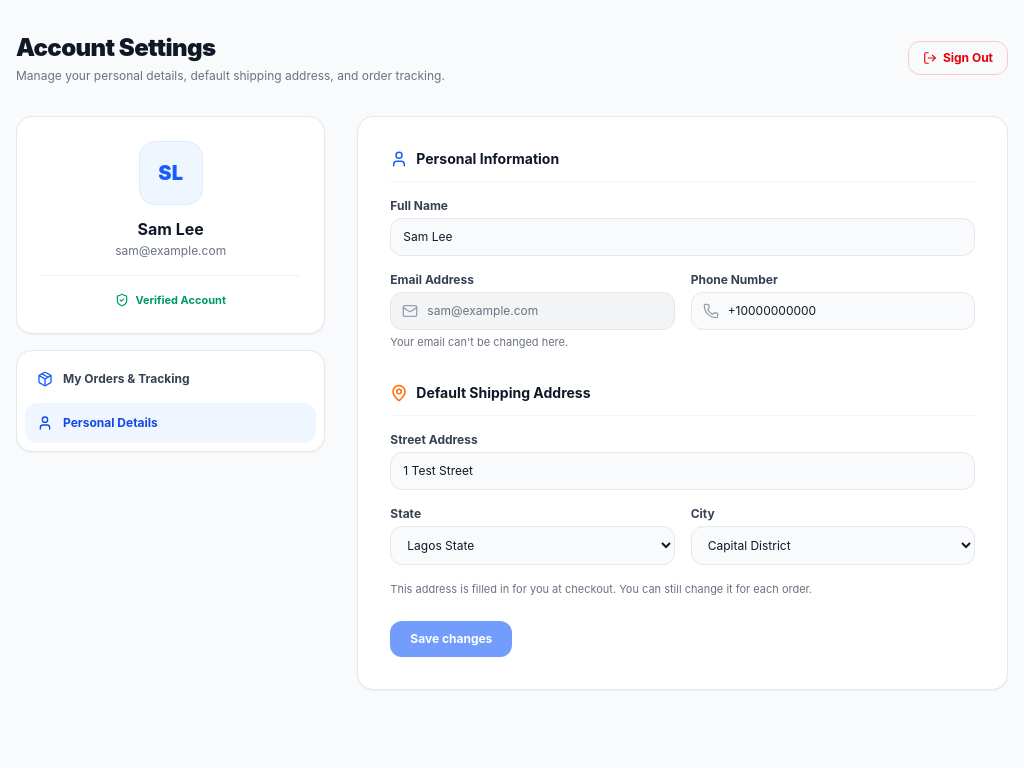
Test case: Profile page › saves, refreshes the account so the navbar updates, and says so
Replace the text in the field labelled "Full Name" with "Samuel Lee". click: (683, 237)
box: [390,218,975,256]
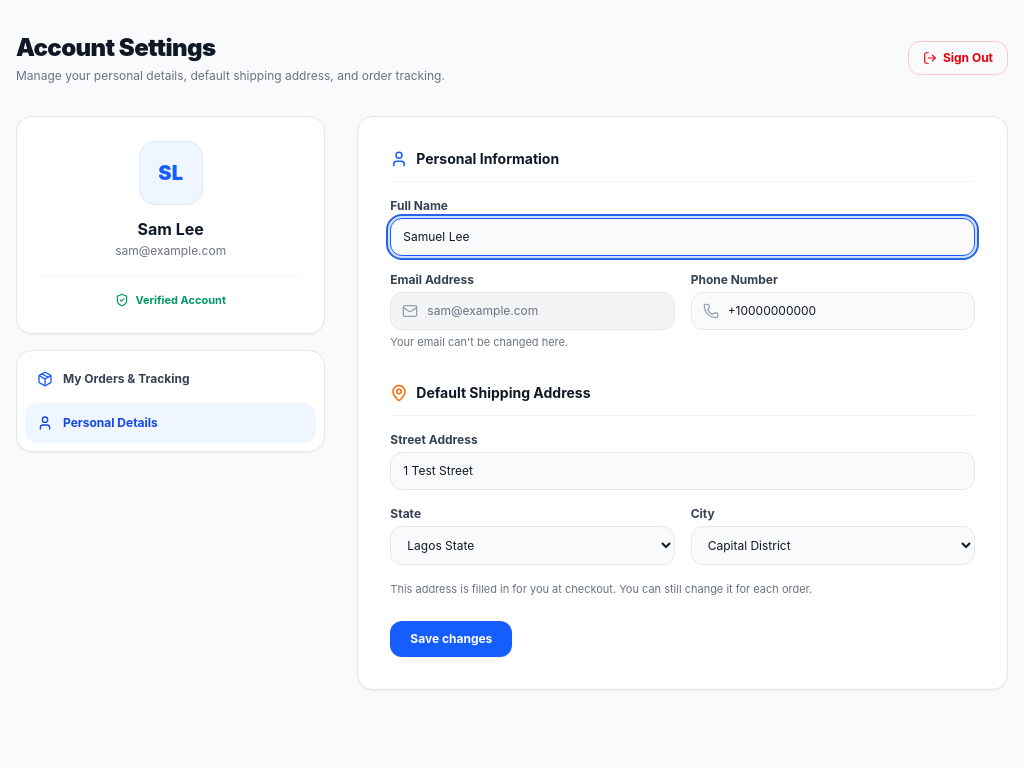
Clear the field labelled "Phone Number". click: (833, 311)
box: [691,292,975,330]
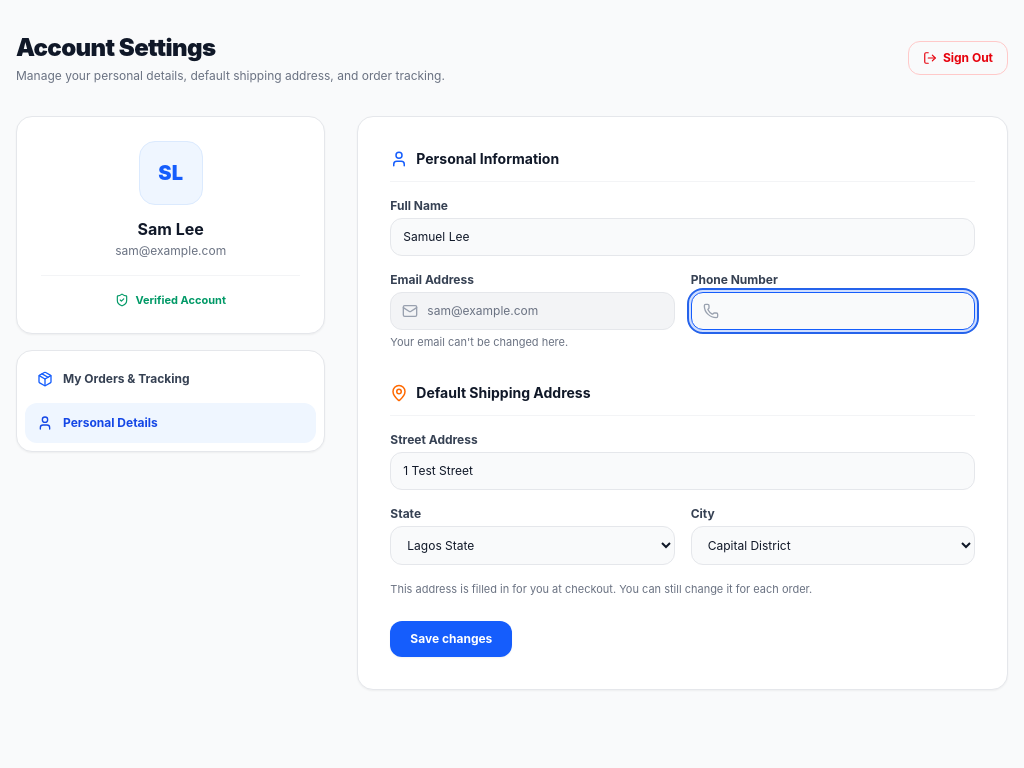
Click the button "Save changes". click: (451, 639)
box: [390,621,512,657]
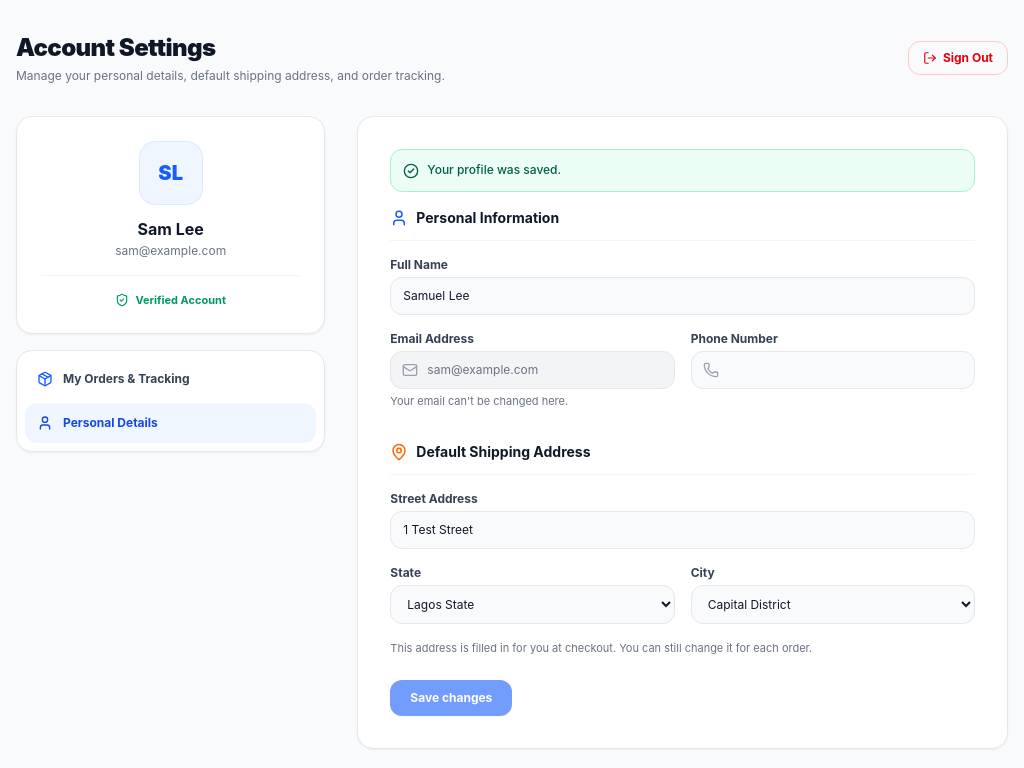
Now the message reads "Your profile was saved.", box [427,162,561,177]
Now the button "Save changes" is disabled, box [390,680,512,716]
